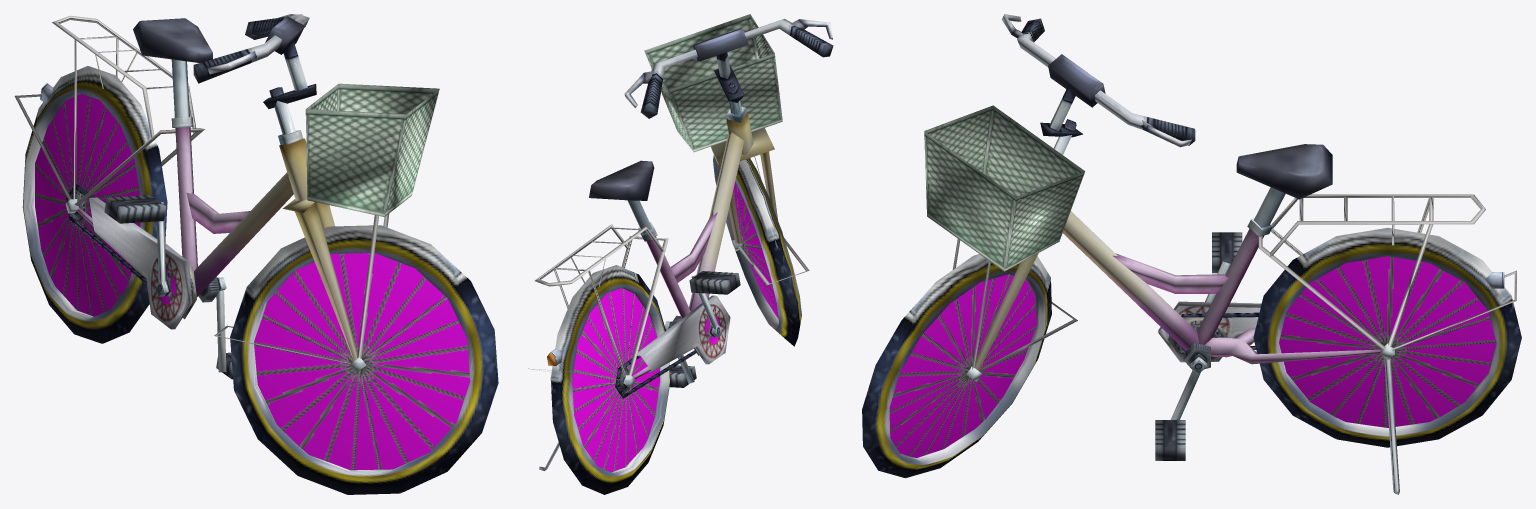
File: a_SEbike02.glb
3 renders of one model, left to right at view 1: azimuth 30°, elevation 25°; view 2: azimuth 150°, elevation 25°; view 3: azimuth 270°, elevation 25°, orthographic. The views are drawn at different scales.
Parts seen in each view (by area): view 1: a_SEbike02; view 2: a_SEbike02; view 3: a_SEbike02.
Boxes of the visible parts, bbox=[...] form: a_SEbike02: bbox=[14, 14, 498, 494]; a_SEbike02: bbox=[528, 14, 833, 494]; a_SEbike02: bbox=[862, 14, 1521, 494].
Bounding box in the file's own units: 0.7776 × 1.35 × 1.96.
2 materials, 2 textured.
